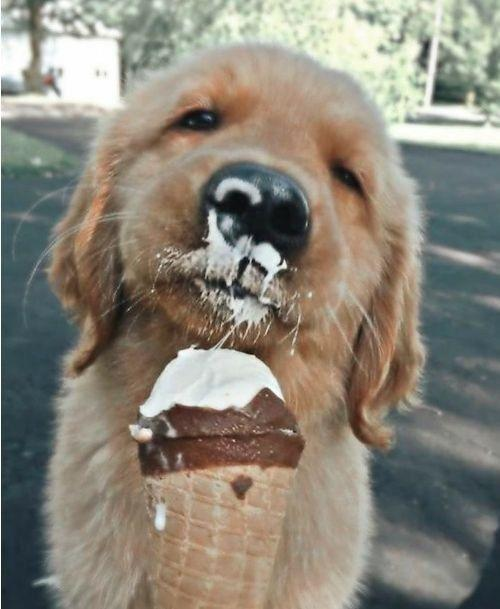puppy-dog: (27, 38, 432, 609)
